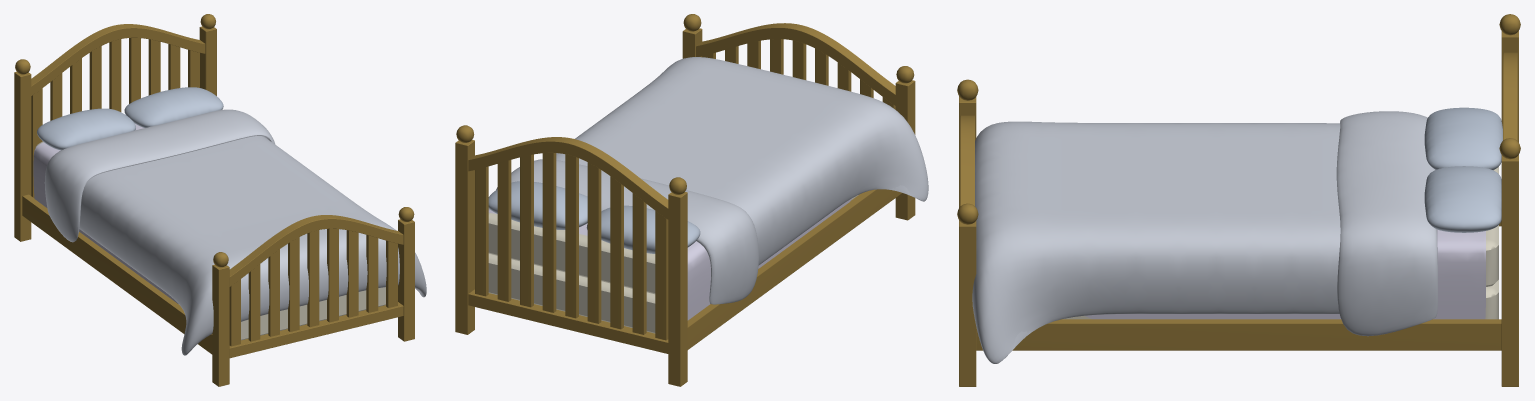
Rendered from sh_blend_swap_cc_0_bed2.glb.
3 renders of one model, left to right at view 1: azimuth 30°, elevation 25°; view 2: azimuth 150°, elevation 25°; view 3: azimuth 270°, elevation 25°, orthographic. The views are drawn at different scales.
Size of the model in its own units: 1.45 by 1.08 by 2.14.
